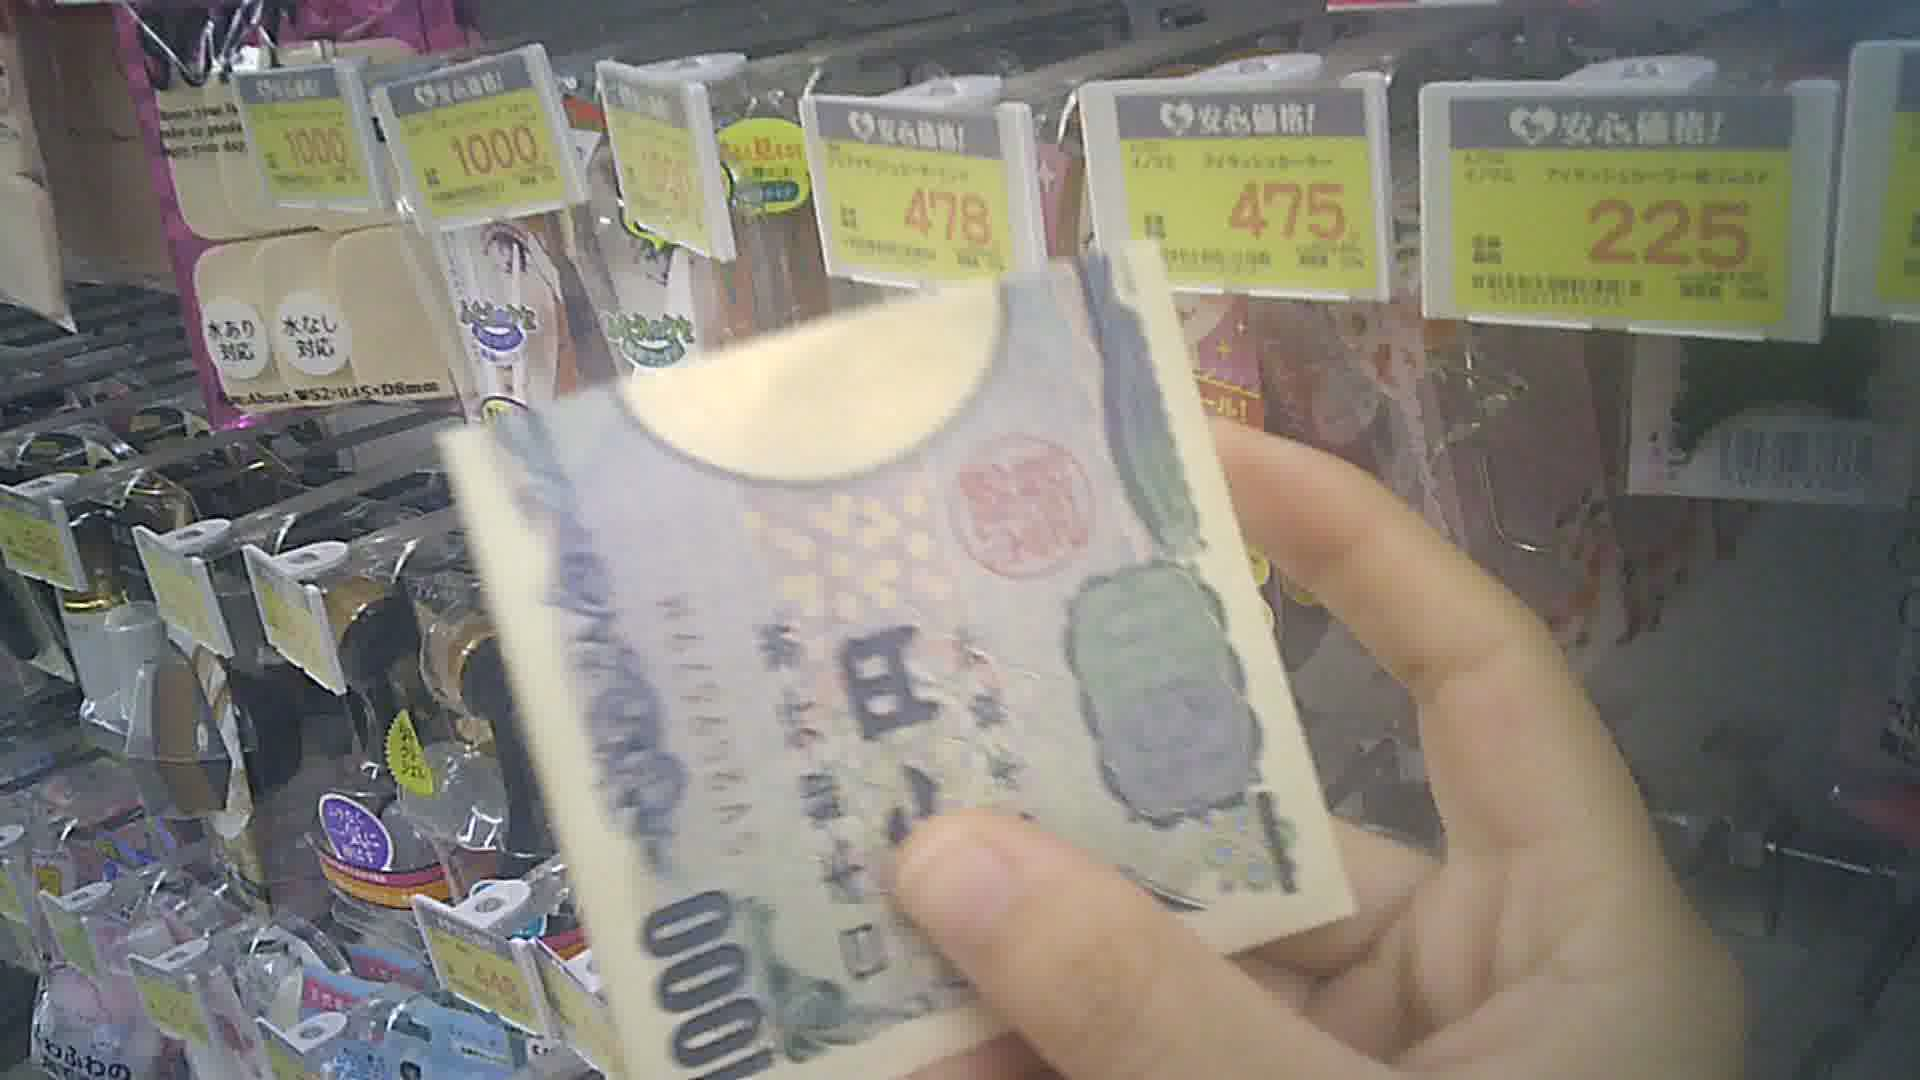1,000 Yen: (440, 232, 1352, 1044)
